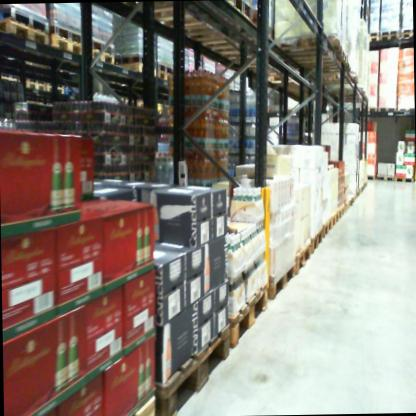pallet: (153, 325, 231, 415), (143, 0, 258, 47), (222, 274, 269, 350), (0, 12, 56, 49), (274, 34, 344, 62), (266, 254, 298, 307), (0, 6, 52, 32), (48, 34, 88, 63), (116, 58, 156, 78), (155, 62, 181, 90), (130, 392, 157, 416), (48, 27, 86, 44), (295, 238, 312, 276), (91, 46, 119, 69), (91, 35, 119, 58), (309, 225, 324, 256), (24, 76, 46, 96), (393, 173, 415, 185), (321, 215, 333, 236), (45, 82, 65, 94), (379, 32, 400, 42), (377, 172, 395, 182), (336, 201, 346, 219), (399, 29, 413, 41), (363, 171, 378, 182), (368, 33, 382, 44), (375, 105, 396, 112), (396, 105, 414, 113), (361, 105, 378, 113), (331, 208, 338, 225), (344, 198, 351, 212)
